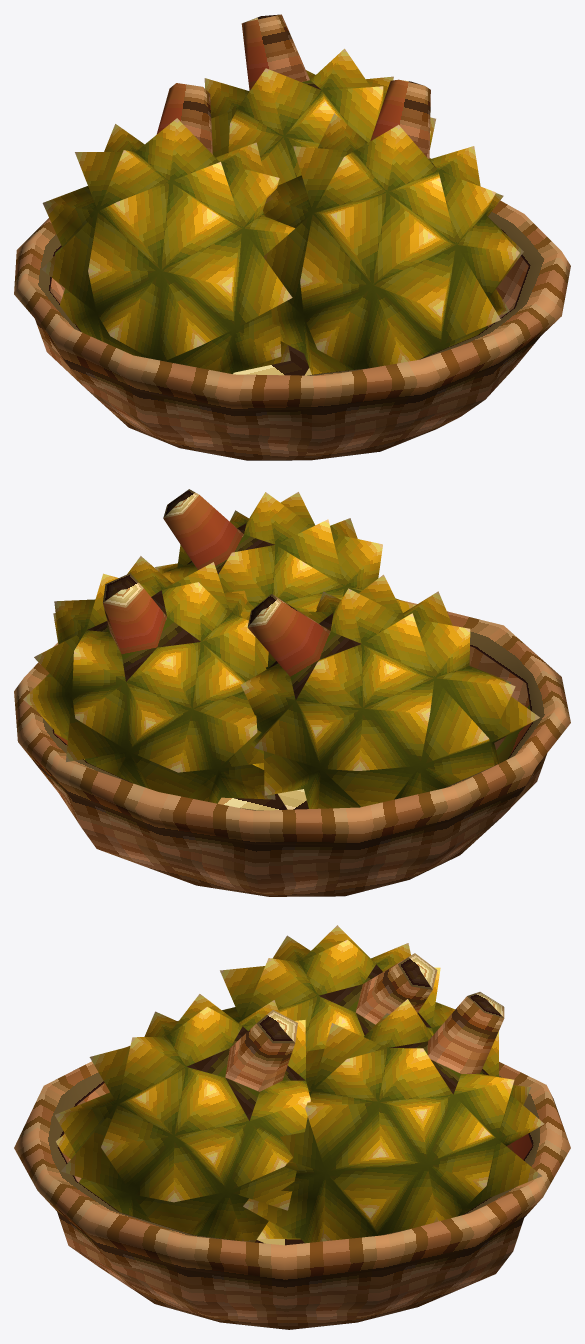
File: int_fru_durian.dae
The picture shows the model from 3 angles, top to bottom: view 1: azimuth 30°, elevation 25°; view 2: azimuth 150°, elevation 25°; view 3: azimuth 270°, elevation 25°; orthographic projection.
Visible parts, largest first — view 1: int_fru_durian; view 2: int_fru_durian; view 3: int_fru_durian.
Part boxes in pixels (<box>): int_fru_durian: <box>14,14,570,460</box>; int_fru_durian: <box>14,489,570,896</box>; int_fru_durian: <box>14,925,570,1329</box>.
Size of the model in its own units: 28.3 by 16.22 by 28.27.
1 material, 1 textured.
